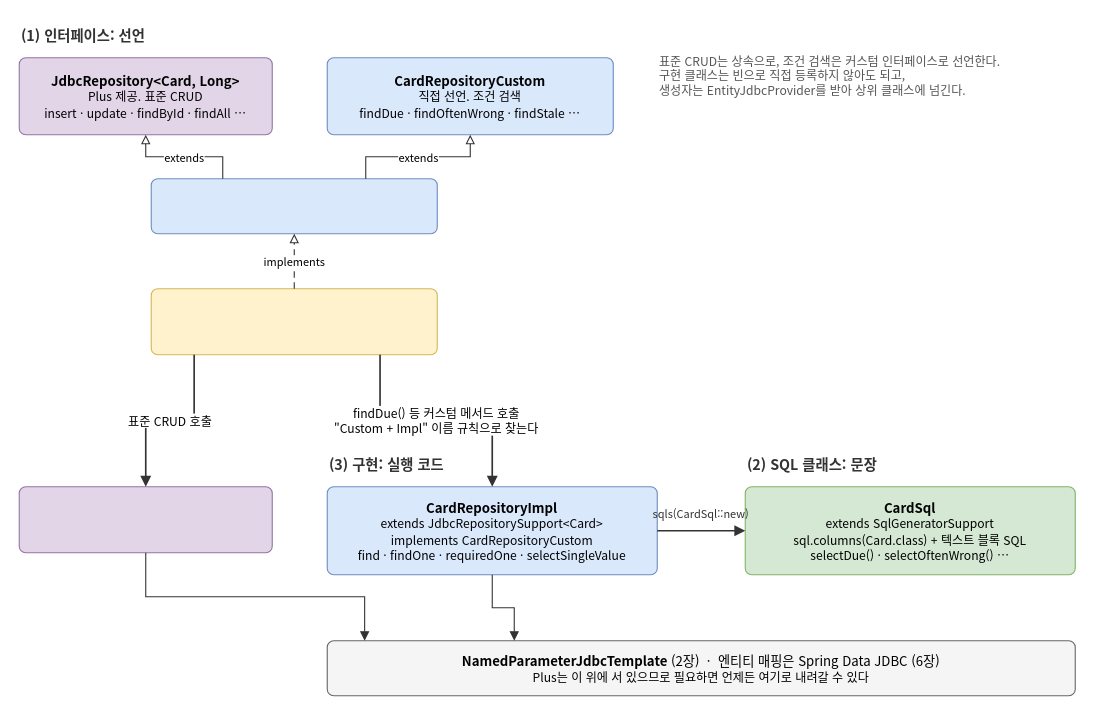
Image size: 1095x715. Some labels were removed from this diagram. The shapes that lost their labels are listed below. From the top down, each one's centre as x and y in pixels, then its label:
At point (293, 206): "CardRepository (interface) 두 인터페이스를 상속만 한다".
At point (293, 321): "Spring Data가 만든 프록시 빈 서비스가 주입받는 것".
At point (145, 519): "Plus의 기본 구현 엔티티 정의에서 SQL 생성".
